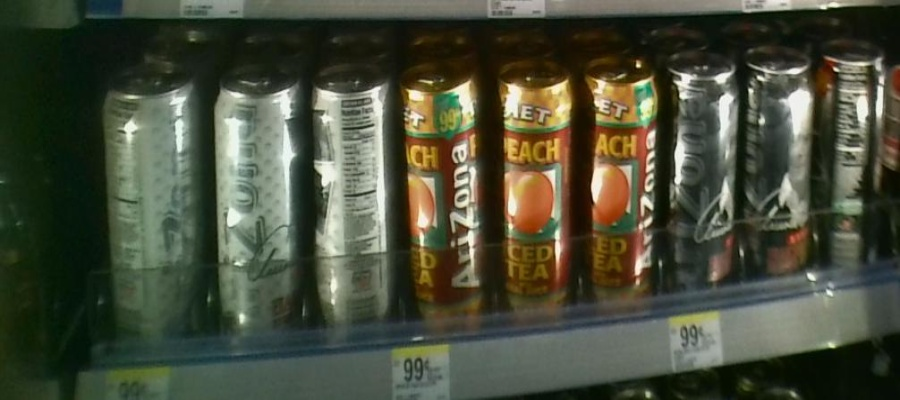bottle: (96, 65, 208, 349), (212, 60, 307, 344), (401, 49, 487, 348), (309, 56, 395, 344), (577, 46, 661, 327), (491, 52, 577, 313), (665, 42, 743, 297), (747, 34, 816, 304), (819, 37, 889, 270)
